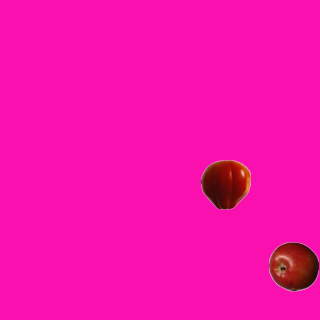Apple Braeburn: (268, 241, 318, 291)
Tomato 1: (200, 159, 250, 209)
